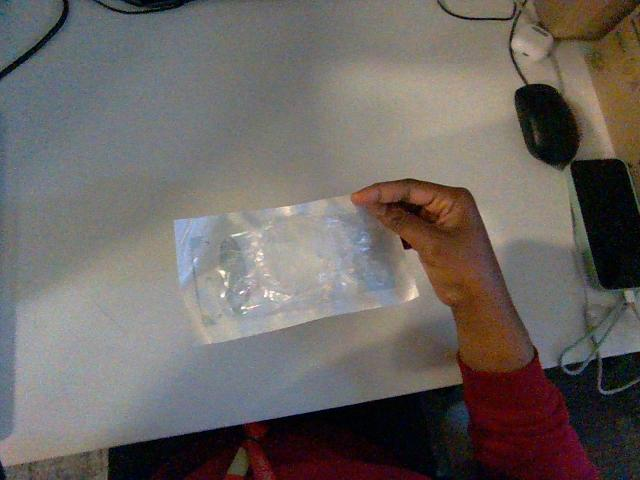gallipot: (174, 197, 417, 343)
